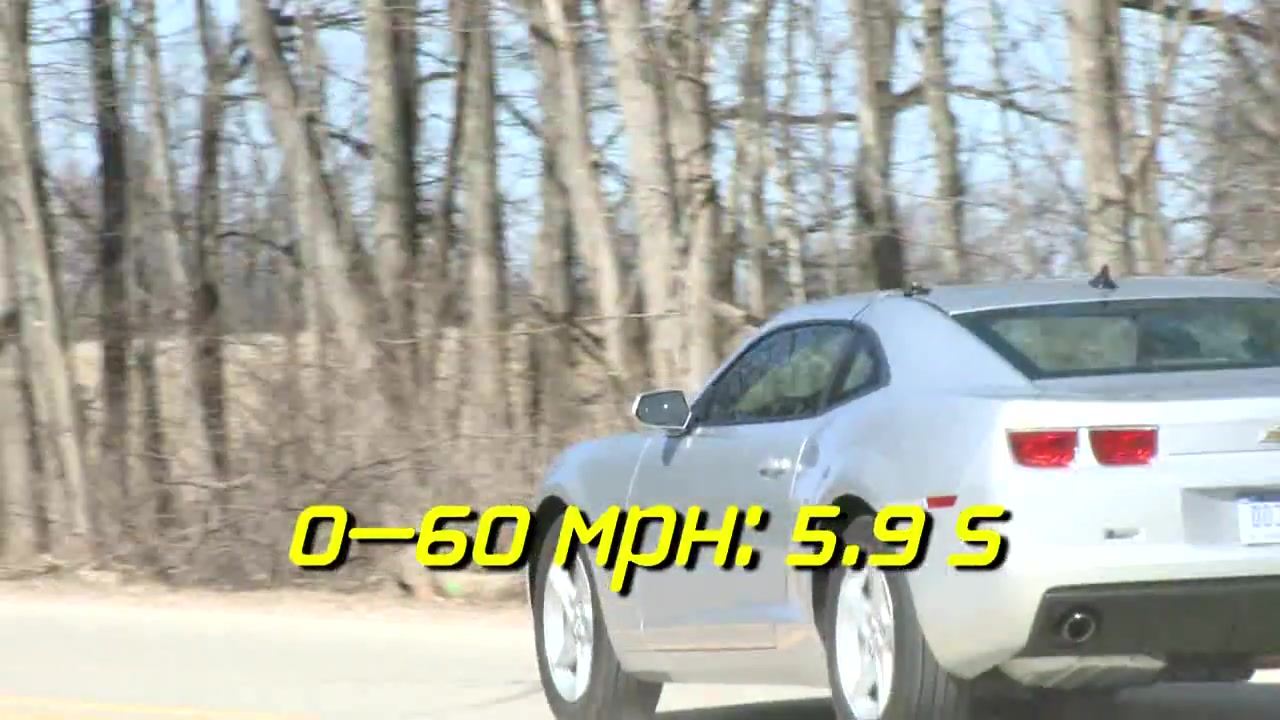car: (523, 272, 1280, 720)
